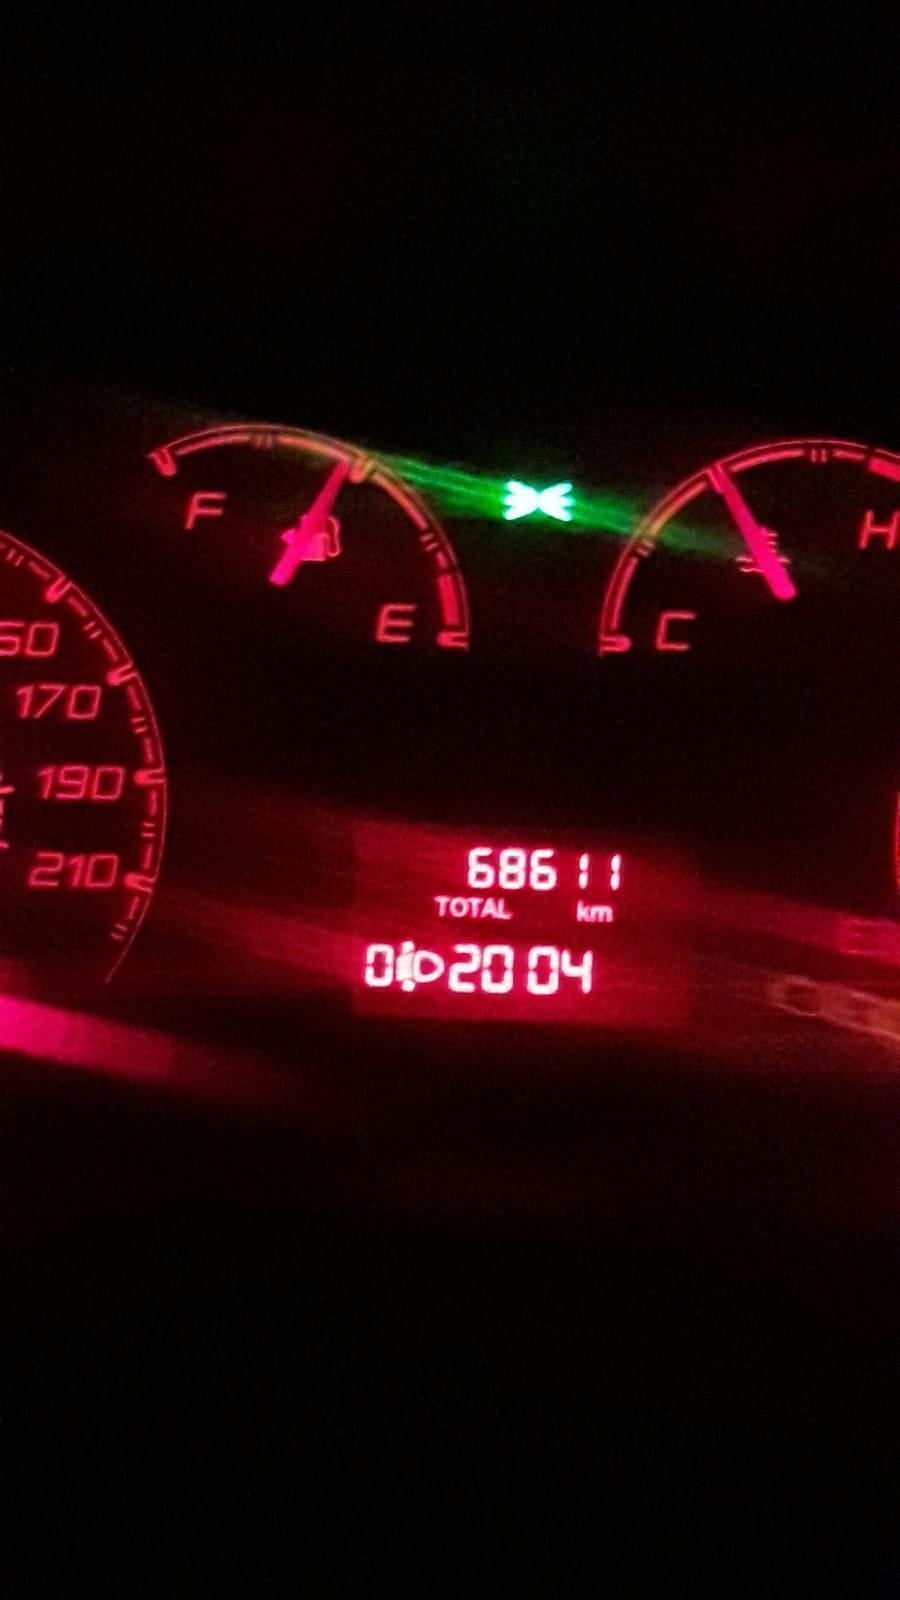0: (527, 943, 557, 999), (484, 942, 514, 995), (362, 940, 395, 987)
1: (608, 848, 626, 895), (575, 846, 590, 892)
2: (451, 941, 481, 993)
4: (560, 946, 596, 998)
6: (467, 843, 495, 887), (530, 847, 556, 891)
8: (499, 846, 527, 892)
X: (431, 892, 451, 918), (591, 903, 615, 922), (575, 898, 591, 924), (451, 895, 467, 916), (497, 896, 511, 921), (484, 896, 496, 921), (468, 895, 481, 916)
odometer: (355, 823, 709, 1034)
